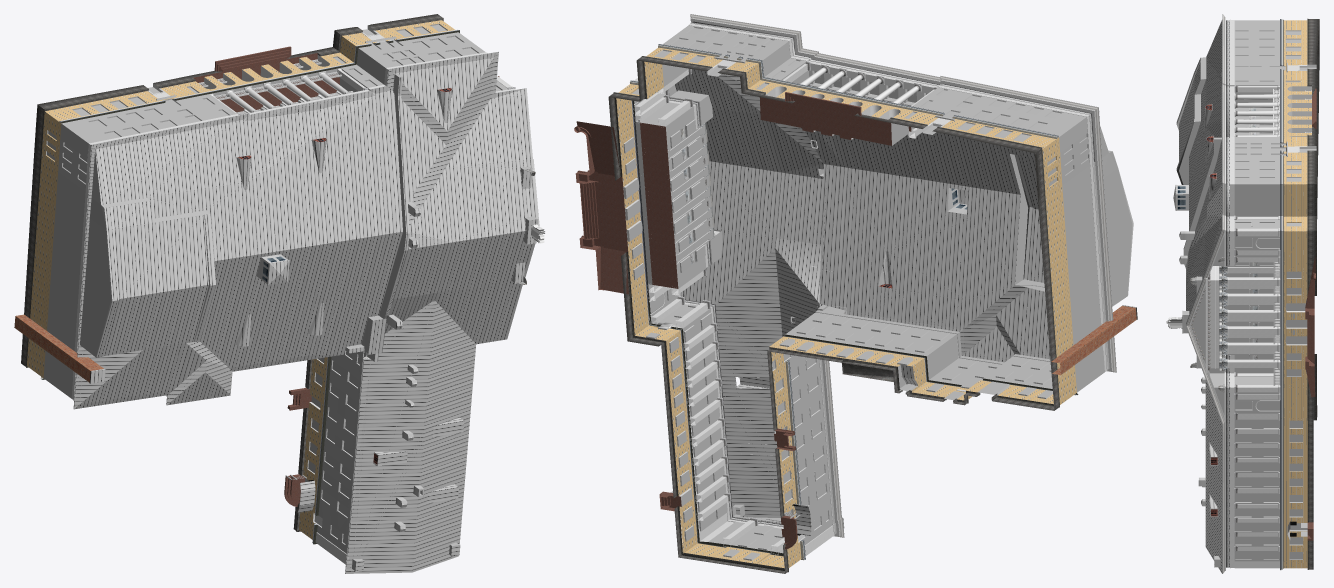
The model's file is Mere-pst-5.obj.
The picture shows the model from 3 angles, left to right: view 1: azimuth 30°, elevation 25°; view 2: azimuth 150°, elevation 25°; view 3: azimuth 270°, elevation 25°; orthographic projection. The views are drawn at different scales.
Visible parts, largest first — view 1: Mere_pst_5; view 2: Mere_pst_5; view 3: Mere_pst_5.
Boxes of the visible parts, x1,y1,x2,y2 form: Mere_pst_5: (14, 14, 545, 573); Mere_pst_5: (574, 14, 1137, 573); Mere_pst_5: (1166, 14, 1319, 573).
Size of the model in its own units: 66.23 by 65.6 by 21.96.
